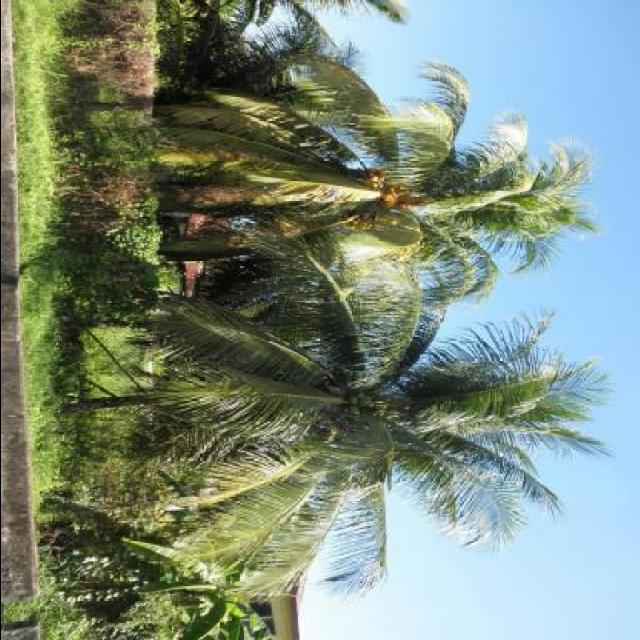Coconut: (364, 166, 412, 212), (341, 391, 377, 415), (348, 216, 398, 232)
